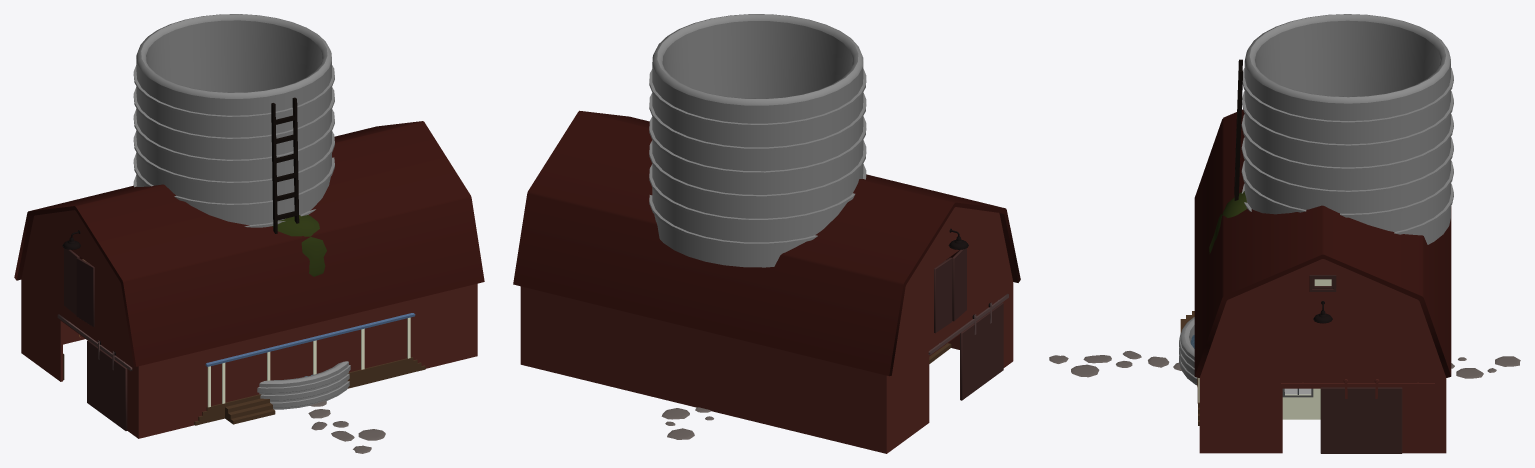
File: Assets_actualizados.fbx
The picture shows the model from 3 angles, left to right: view 1: azimuth 30°, elevation 25°; view 2: azimuth 150°, elevation 25°; view 3: azimuth 270°, elevation 25°; orthographic projection. The views are drawn at different scales.
Parts seen in each view (by area): view 1: Granero.007, Silo, Casa, Pileta, Árbol.007, Piedra.005; view 2: Granero.007, Silo, Piedra.005; view 3: Granero.007, Silo, Piedra.005, Casa, Pileta, Árbol.007.
Part boxes in pixels (x1,y1,x2,y2): Granero.007: [14, 121, 484, 438]; Silo: [133, 14, 334, 233]; Casa: [194, 313, 425, 425]; Pileta: [257, 361, 350, 409]; Árbol.007: [272, 215, 326, 276]; Piedra.005: [308, 401, 385, 453]; Granero.007: [513, 110, 1020, 453]; Silo: [649, 14, 866, 267]; Piedra.005: [661, 407, 713, 439]; Granero.007: [1194, 109, 1451, 453]; Silo: [1234, 14, 1453, 244]; Piedra.005: [1049, 351, 1520, 378]; Casa: [1180, 279, 1331, 425]; Pileta: [1179, 317, 1197, 385]; Árbol.007: [1209, 191, 1246, 253].
Bounding box in the file's own units: 2284 × 1759 × 2384.
